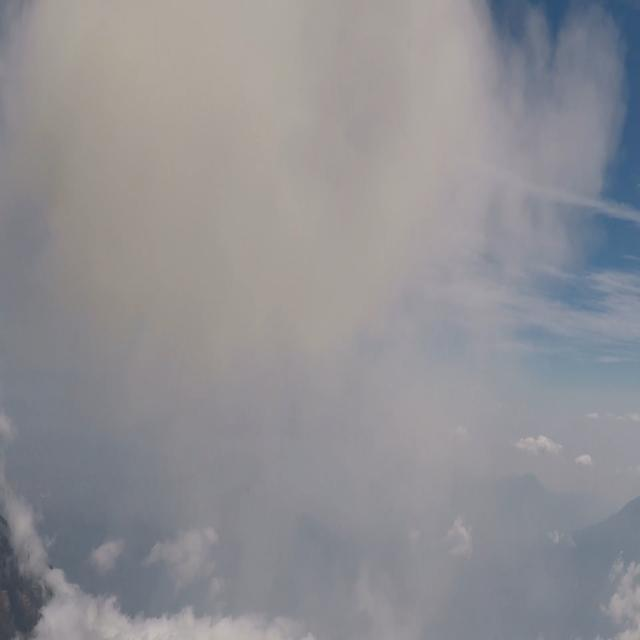Plume: (0, 1, 629, 518)
